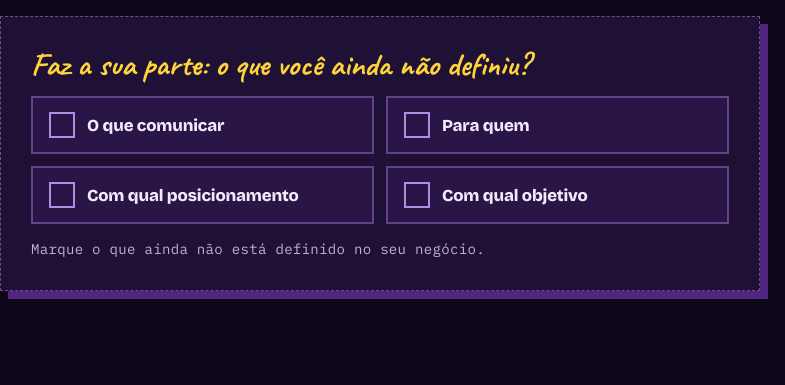
Test: Lacunas (marque o que falta) › desmarcar volta ao estado inicial
Click the button "Para quem": click(486, 125) [386, 96, 729, 154]
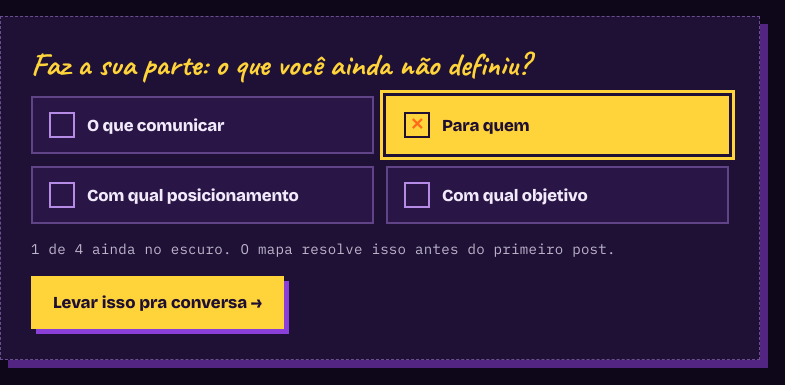
Click the button "✕ Para quem": click(486, 125) [386, 96, 729, 154]
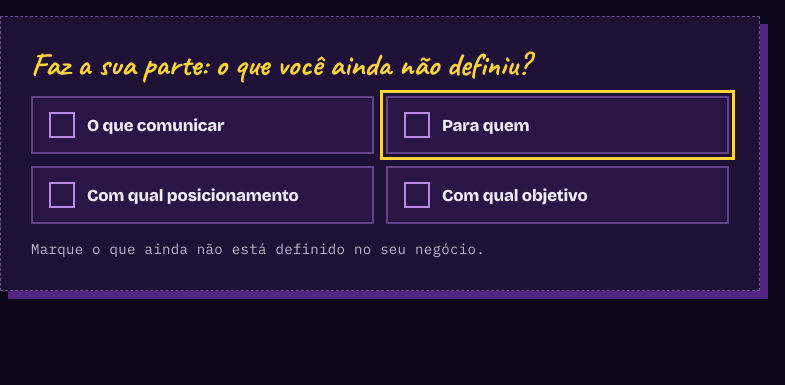
Check: the link "Levar isso pra conversa →" is gone
